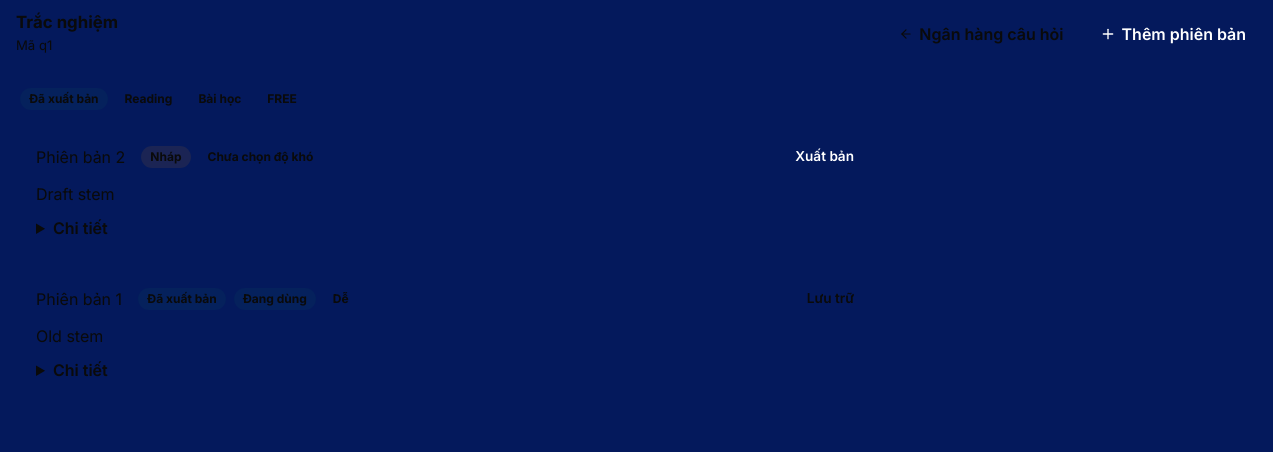
Test: QuestionDetailPage › publishes a draft and reloads
Click the button "Xuất bản" at (825, 156), box [785,142,864,172]
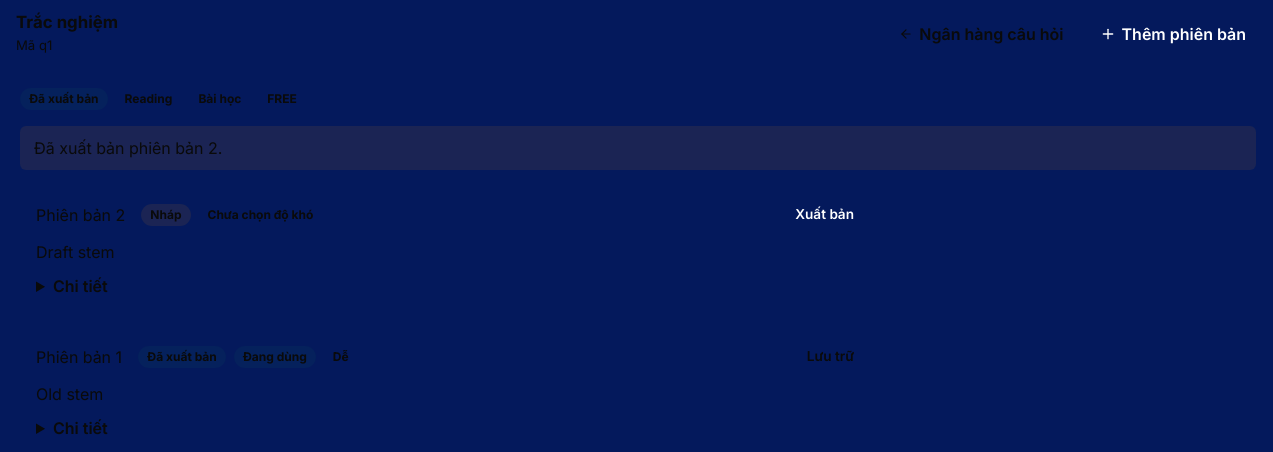
Now the text "Đã xuất bản phiên bản 2." is shown, box [20,126,1256,170]
